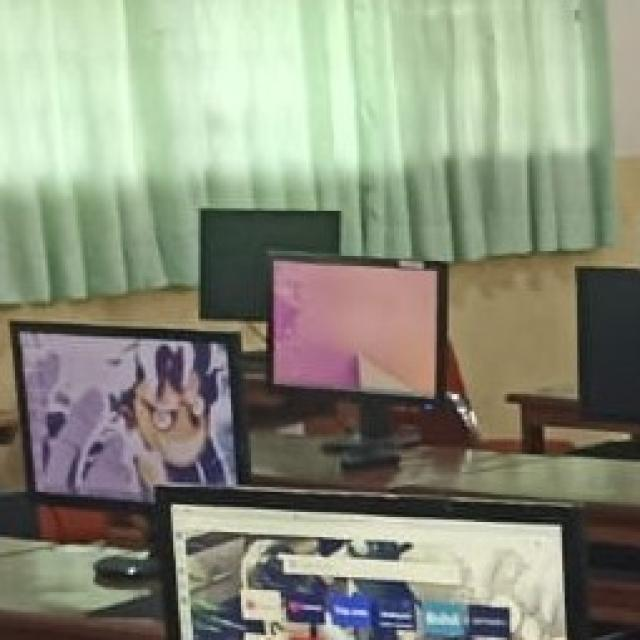offscreen: (200, 211, 338, 319), (579, 269, 640, 419)
onscreen: (157, 487, 581, 640), (13, 323, 239, 502), (273, 258, 446, 398)
